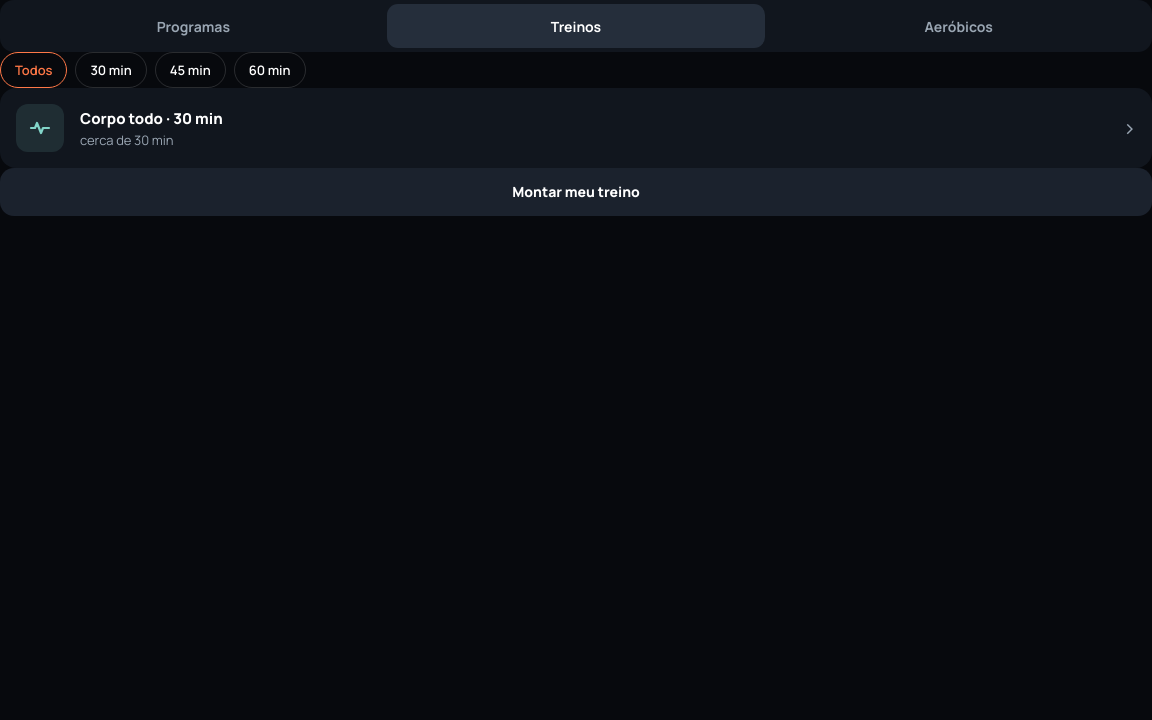
it: Biblioteca por tempo (EPIC-32) › no FitOS Livre, usar um treino copia para Meus treinos e oferece começar agora
Click the button "Corpo todo · 30 min cerca de 30 min ›": (40, 128) [0,88,1151,168]
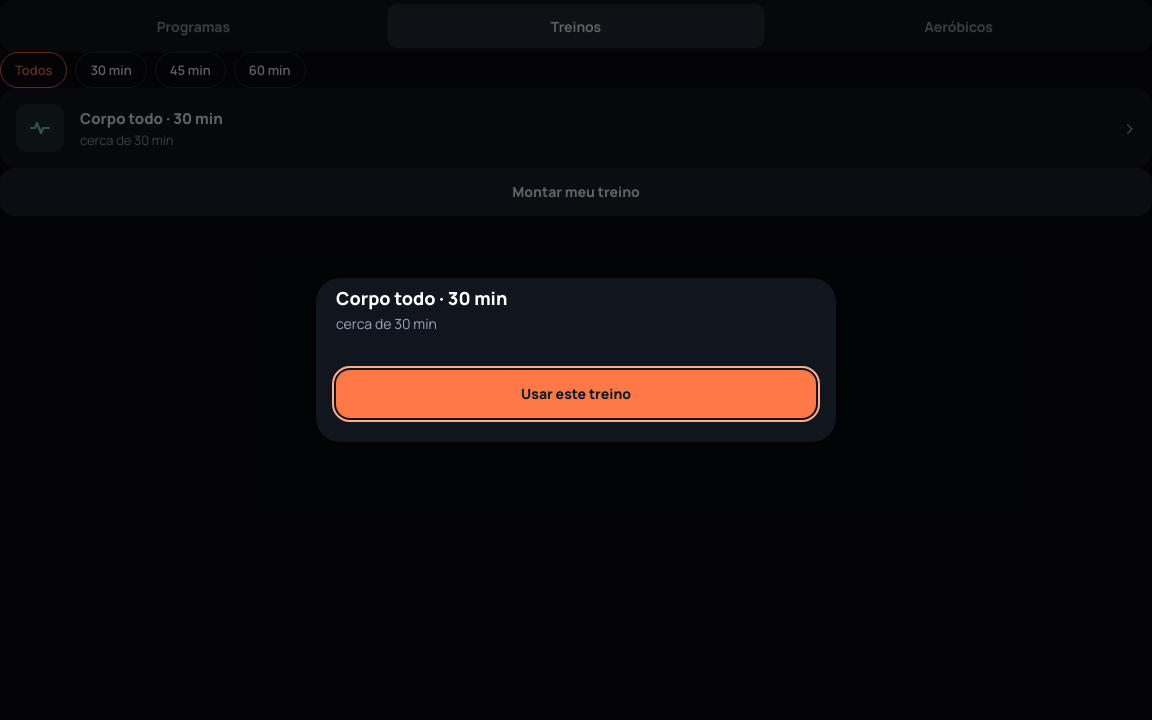
Click the button "Usar este treino": (576, 394) [336,370,816,418]
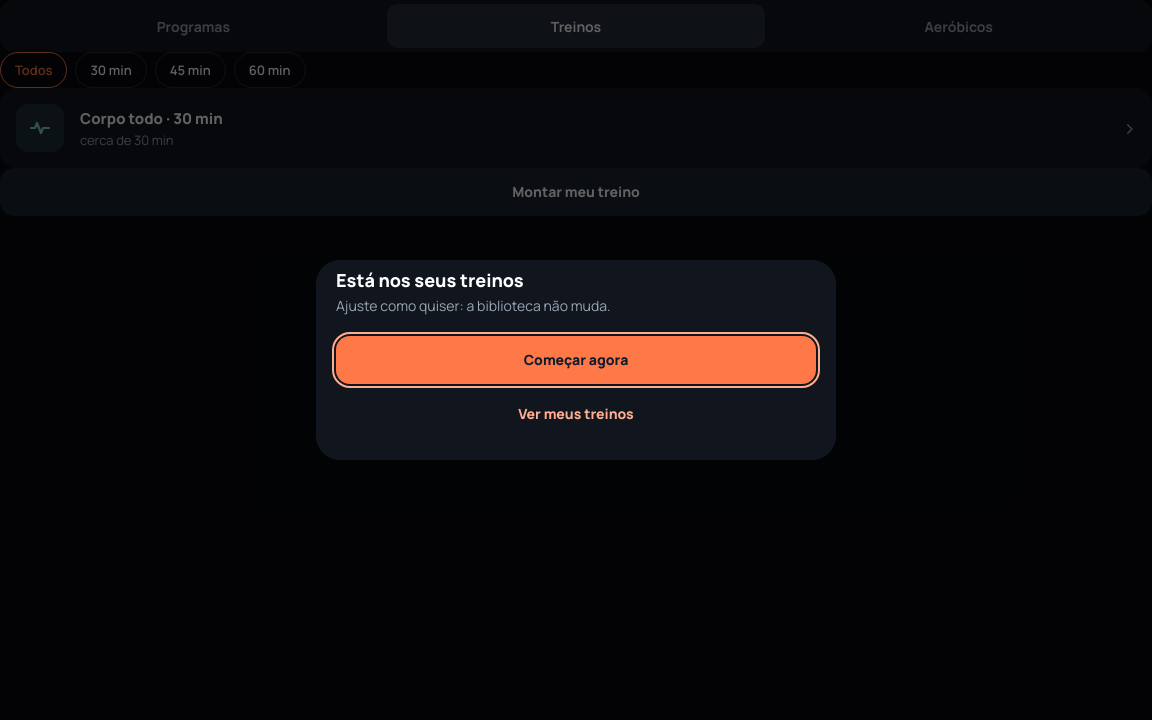
Expected: the dialog "Está nos seus treinos" is shown, [316,260,836,460]
